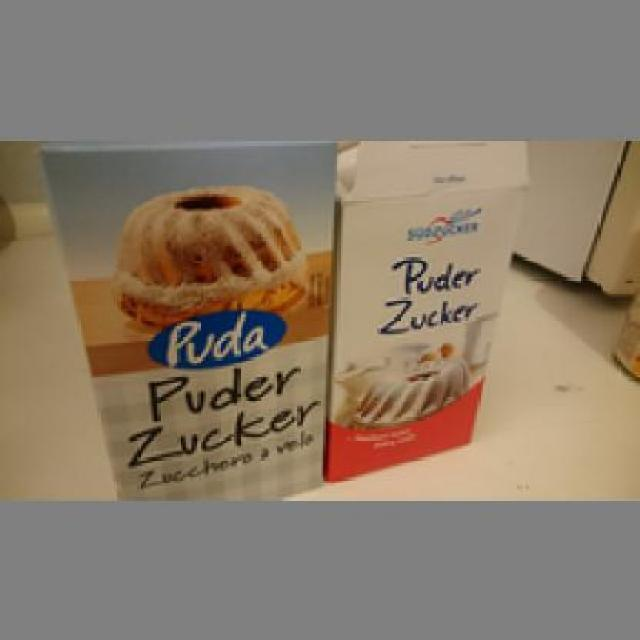Sugar: (31, 140, 340, 494), (330, 151, 526, 480)
